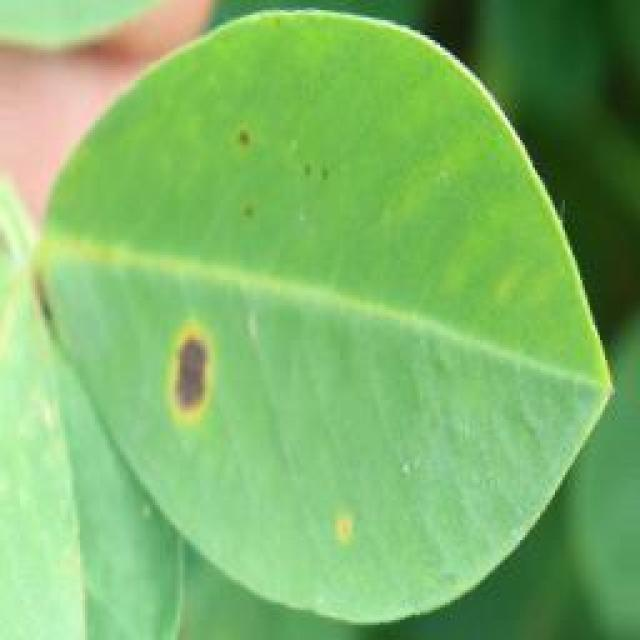Early_leaf_spot: (132, 293, 230, 451), (192, 115, 328, 228), (300, 487, 365, 563)
